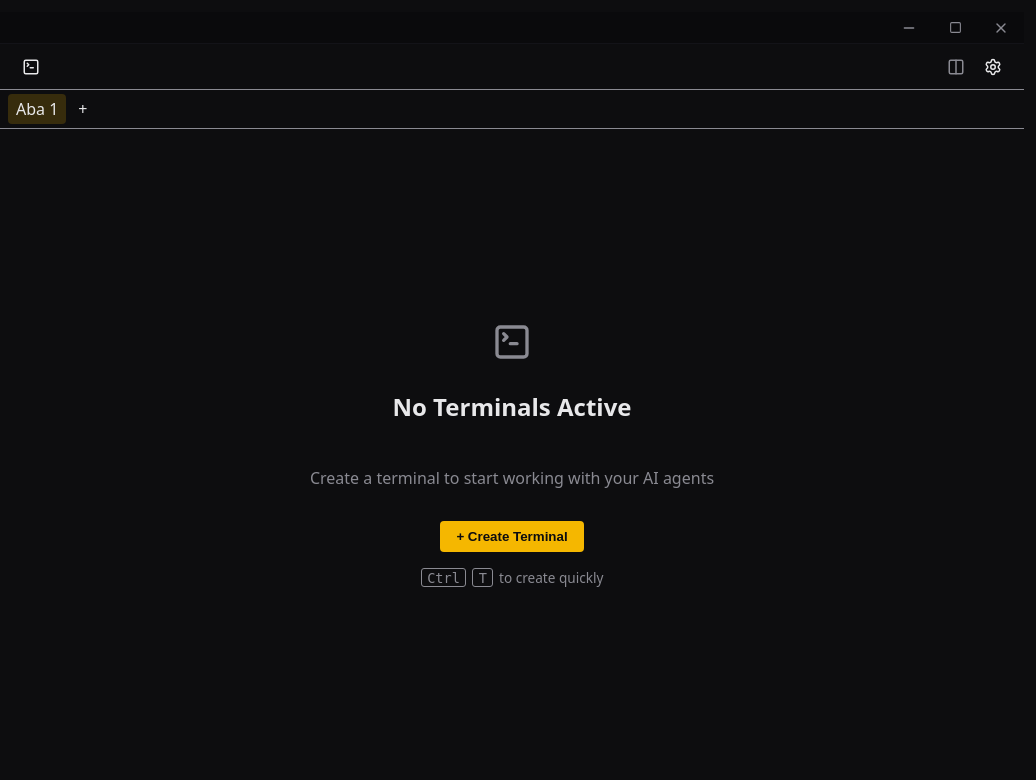
App - shell-chrome empty state › creating a terminal swaps EmptyState for GridLayout, and closing the last terminal swaps back (EMPTY-01, EMPTY-02, EMPTY-04)
The image size is (1036, 780).
Click the button "+ Create Terminal": click(512, 536) [440,521,584,552]
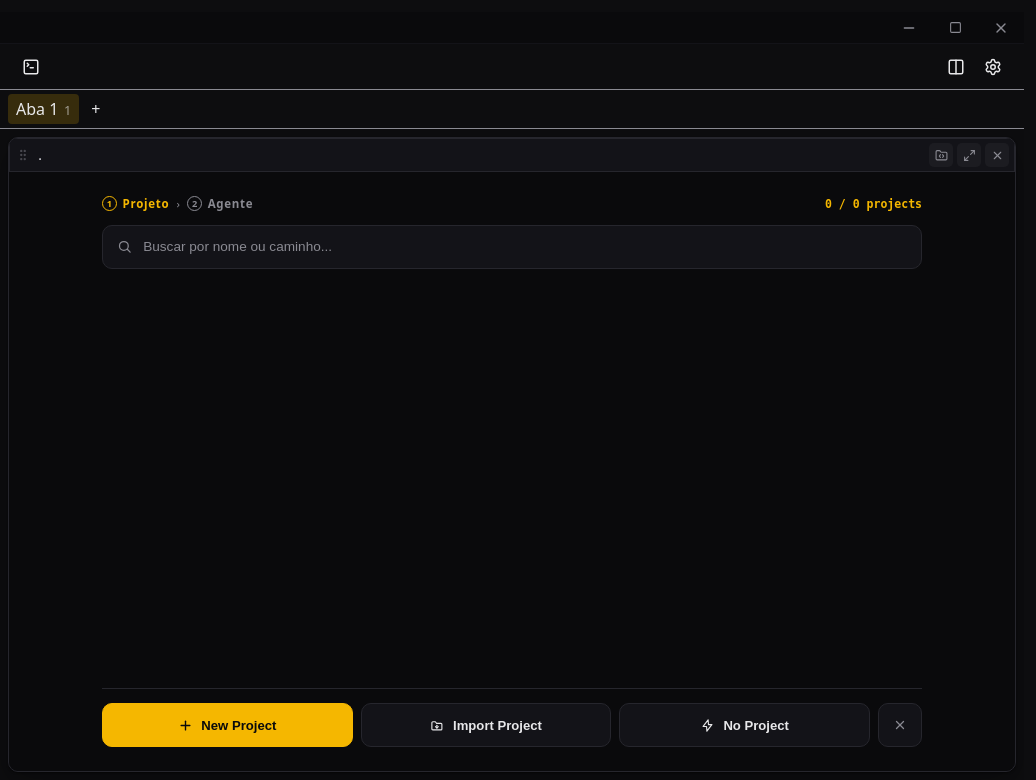
Click the button "Import Project": click(486, 725) [361,703,611,747]
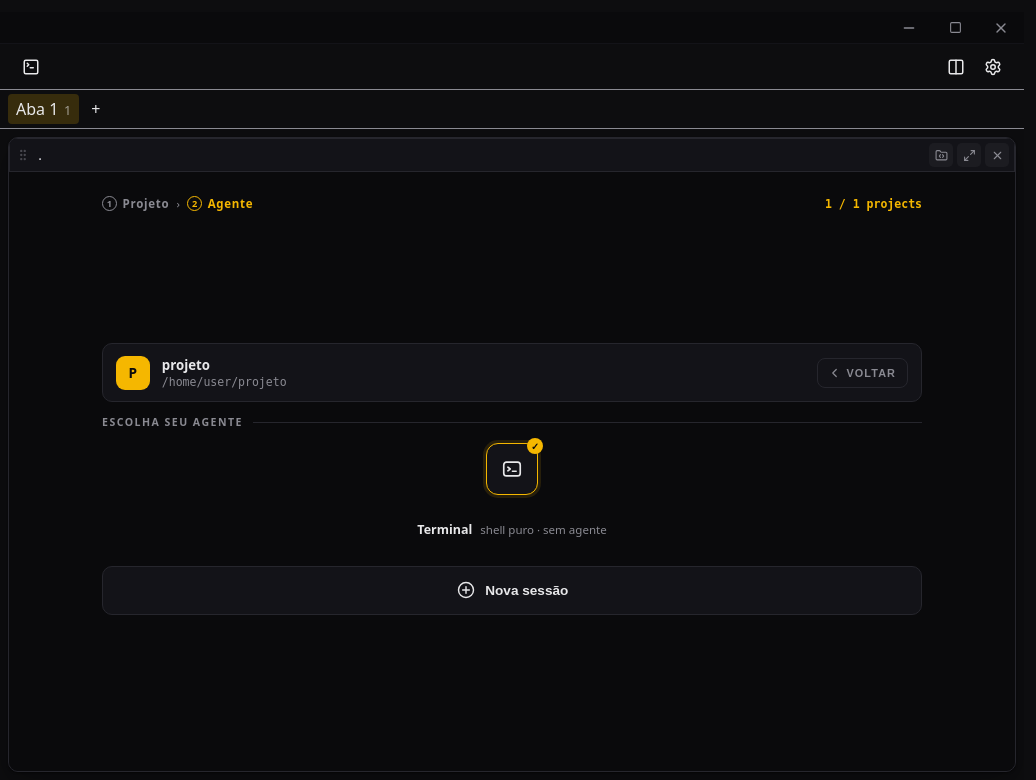
Click the button "Nova sessão": click(512, 590) [102,566,922,615]
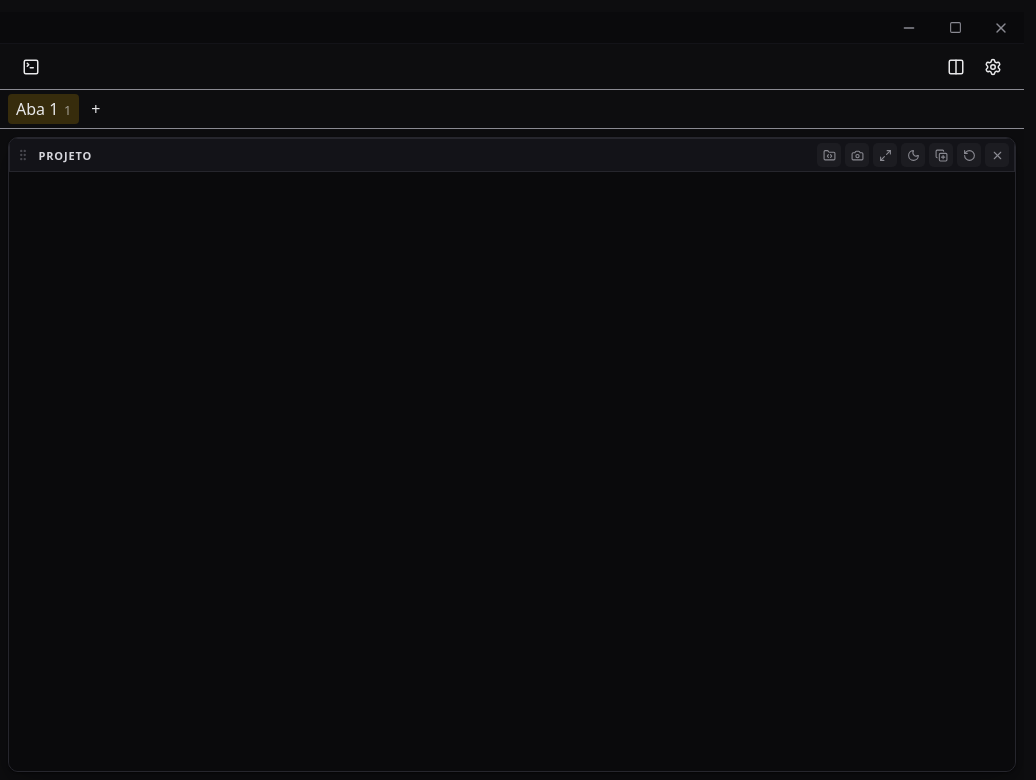
Expected: the heading "No Terminals Active" is not shown
Result: the button named "fechar terminal" is shown
Result: the button "Nova sessão" is gone
Click the button named "fechar terminal": click(997, 155) [985,143,1009,167]
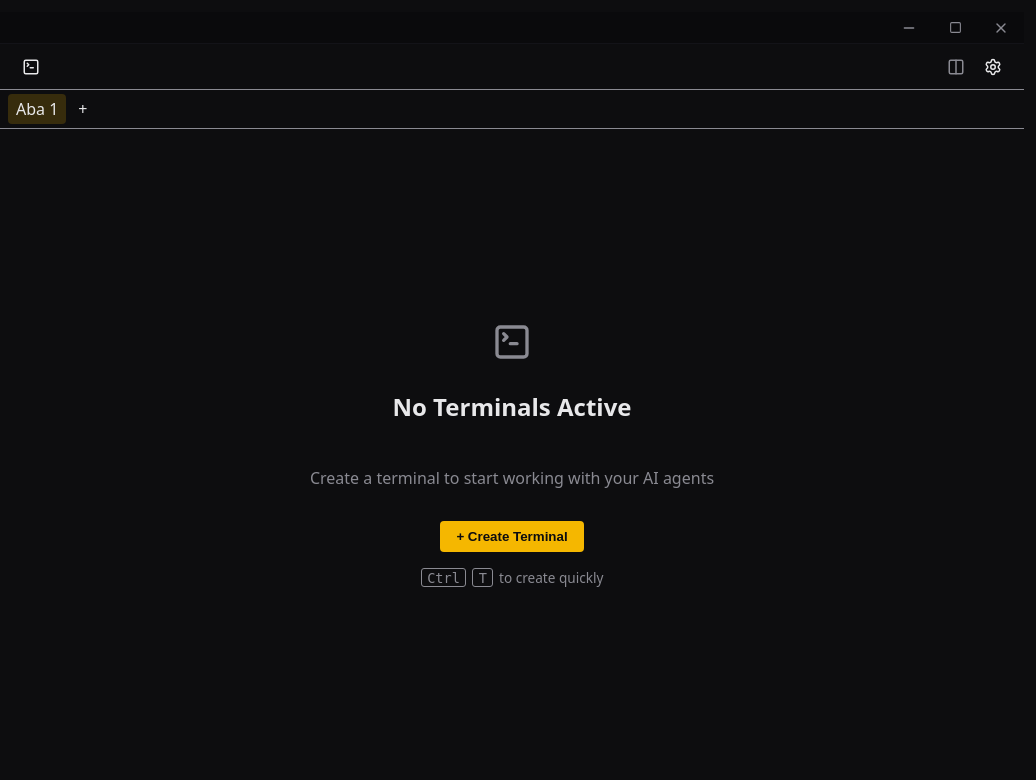
Result: the heading "No Terminals Active" is shown at [392,390,632,423]
